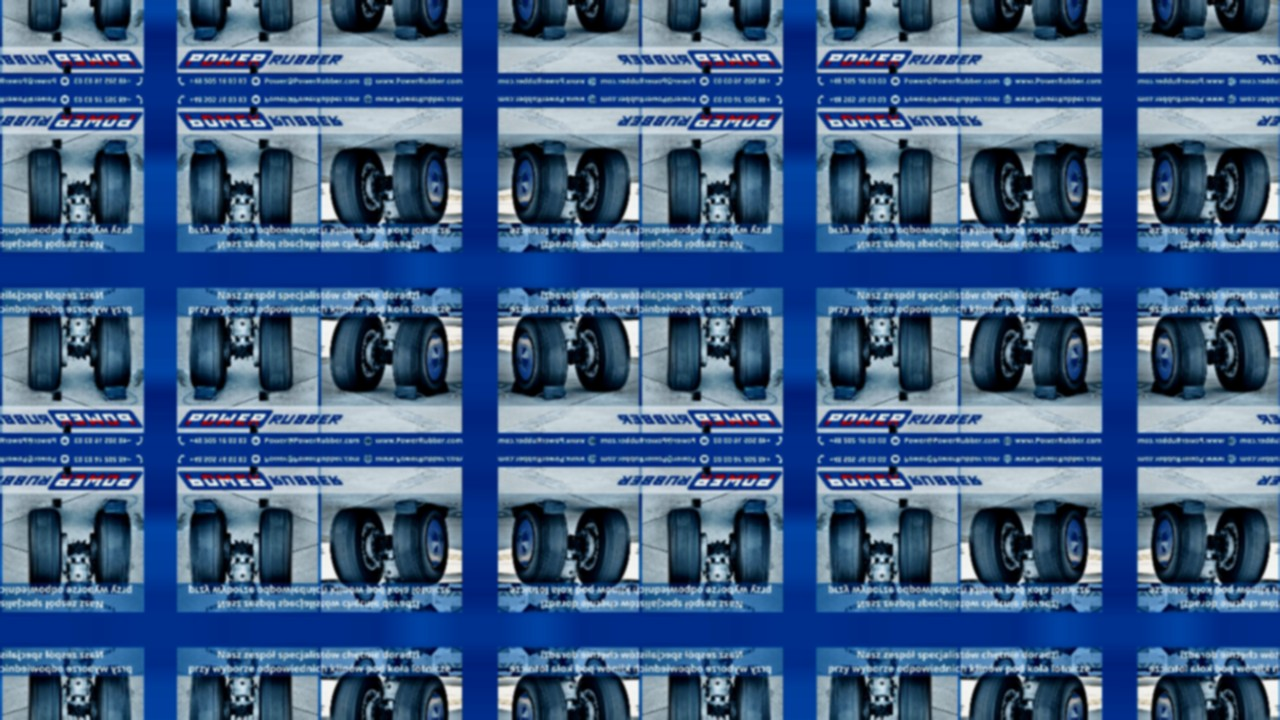chock: (102, 24, 127, 42), (193, 24, 218, 42), (742, 24, 767, 42), (833, 24, 858, 42), (102, 138, 127, 156), (193, 138, 218, 156), (742, 138, 767, 156), (833, 138, 858, 156), (102, 384, 127, 402), (193, 384, 218, 402), (742, 384, 767, 402), (833, 384, 858, 402), (102, 498, 127, 516), (193, 498, 218, 516), (742, 498, 767, 516), (833, 498, 858, 516), (394, 139, 418, 155), (542, 139, 566, 155), (1034, 139, 1058, 155), (1182, 139, 1206, 155), (394, 25, 418, 40), (542, 25, 566, 40), (1034, 25, 1058, 40), (1182, 25, 1206, 40), (394, 385, 418, 400), (542, 385, 566, 400), (1034, 385, 1058, 400), (1182, 385, 1206, 400), (394, 500, 418, 515), (542, 500, 566, 515), (1034, 500, 1058, 515), (1182, 500, 1206, 515), (438, 21, 451, 34), (509, 21, 522, 34), (1078, 21, 1091, 34), (1149, 21, 1162, 34), (438, 146, 451, 159), (509, 146, 522, 159), (1078, 146, 1091, 159), (1149, 146, 1162, 159), (438, 381, 451, 394), (509, 381, 522, 394), (1078, 381, 1091, 394), (1149, 381, 1162, 394), (438, 506, 451, 519), (509, 506, 522, 519), (1078, 506, 1091, 519), (1149, 506, 1162, 519), (51, 32, 61, 41), (259, 32, 269, 41), (691, 32, 701, 41), (899, 32, 909, 41), (51, 139, 61, 148), (259, 139, 269, 148), (691, 139, 701, 148), (899, 139, 909, 148), (51, 392, 61, 401), (259, 392, 269, 401), (691, 392, 701, 401), (899, 392, 909, 401), (51, 499, 61, 508), (259, 499, 269, 508), (691, 499, 701, 508), (899, 499, 909, 508), (62, 65, 70, 74), (250, 65, 258, 74), (702, 65, 710, 74), (890, 65, 898, 74), (62, 106, 70, 115), (250, 106, 258, 115), (702, 106, 710, 115), (890, 106, 898, 115), (62, 425, 70, 434), (250, 425, 258, 434), (702, 425, 710, 434), (890, 425, 898, 434), (62, 466, 70, 475), (250, 466, 258, 475), (702, 466, 710, 475), (890, 466, 898, 475)
wheel: (392, 143, 448, 225), (512, 143, 568, 225), (1032, 143, 1088, 225), (1152, 143, 1208, 225), (392, 315, 448, 397), (512, 315, 568, 397), (1032, 315, 1088, 397), (1152, 315, 1208, 397), (392, 503, 448, 585), (512, 503, 568, 585), (1032, 503, 1088, 585), (1152, 503, 1208, 585), (329, 148, 385, 226), (575, 148, 631, 226), (969, 148, 1025, 226), (1215, 148, 1271, 226), (329, 314, 385, 392), (575, 314, 631, 392), (969, 314, 1025, 392), (1215, 314, 1271, 392), (329, 508, 385, 586), (575, 508, 631, 586), (969, 508, 1025, 586), (1215, 508, 1271, 586), (93, 149, 132, 234), (188, 149, 227, 234), (733, 149, 772, 234), (828, 149, 867, 234), (93, 306, 132, 391), (188, 306, 227, 391), (733, 306, 772, 391), (828, 306, 867, 391), (93, 509, 132, 594), (188, 509, 227, 594), (733, 509, 772, 594), (828, 509, 867, 594), (27, 149, 62, 233), (258, 149, 293, 233), (667, 149, 702, 233), (898, 149, 933, 233), (27, 307, 62, 391), (258, 307, 293, 391), (667, 307, 702, 391), (898, 307, 933, 391), (27, 509, 62, 593), (258, 509, 293, 593), (667, 509, 702, 593), (898, 509, 933, 593), (329, 673, 385, 720), (575, 673, 631, 720), (969, 673, 1025, 720), (1215, 673, 1271, 720), (392, 675, 448, 720), (512, 675, 568, 720), (1032, 675, 1088, 720), (1152, 675, 1208, 720), (93, 666, 132, 720), (188, 666, 227, 720), (733, 666, 772, 720), (828, 666, 867, 720), (392, 0, 448, 37), (512, 0, 568, 37), (1032, 0, 1088, 37), (1152, 0, 1208, 37), (27, 667, 62, 720), (258, 667, 293, 720), (667, 667, 702, 720), (898, 667, 933, 720), (329, 0, 385, 32), (575, 0, 631, 32), (969, 0, 1025, 32), (1215, 0, 1271, 32), (93, 0, 132, 31), (188, 0, 227, 31), (733, 0, 772, 31), (828, 0, 867, 31), (27, 0, 62, 31), (258, 0, 293, 31), (667, 0, 702, 31), (898, 0, 933, 31), (353, 226, 376, 243), (584, 226, 607, 243), (993, 226, 1016, 243), (1224, 226, 1247, 243), (353, 297, 376, 314), (584, 297, 607, 314), (993, 297, 1016, 314), (1224, 297, 1247, 314), (353, 586, 376, 603), (584, 586, 607, 603), (993, 586, 1016, 603), (1224, 586, 1247, 603), (353, 657, 376, 674), (584, 657, 607, 674), (993, 657, 1016, 674), (1224, 657, 1247, 674)
